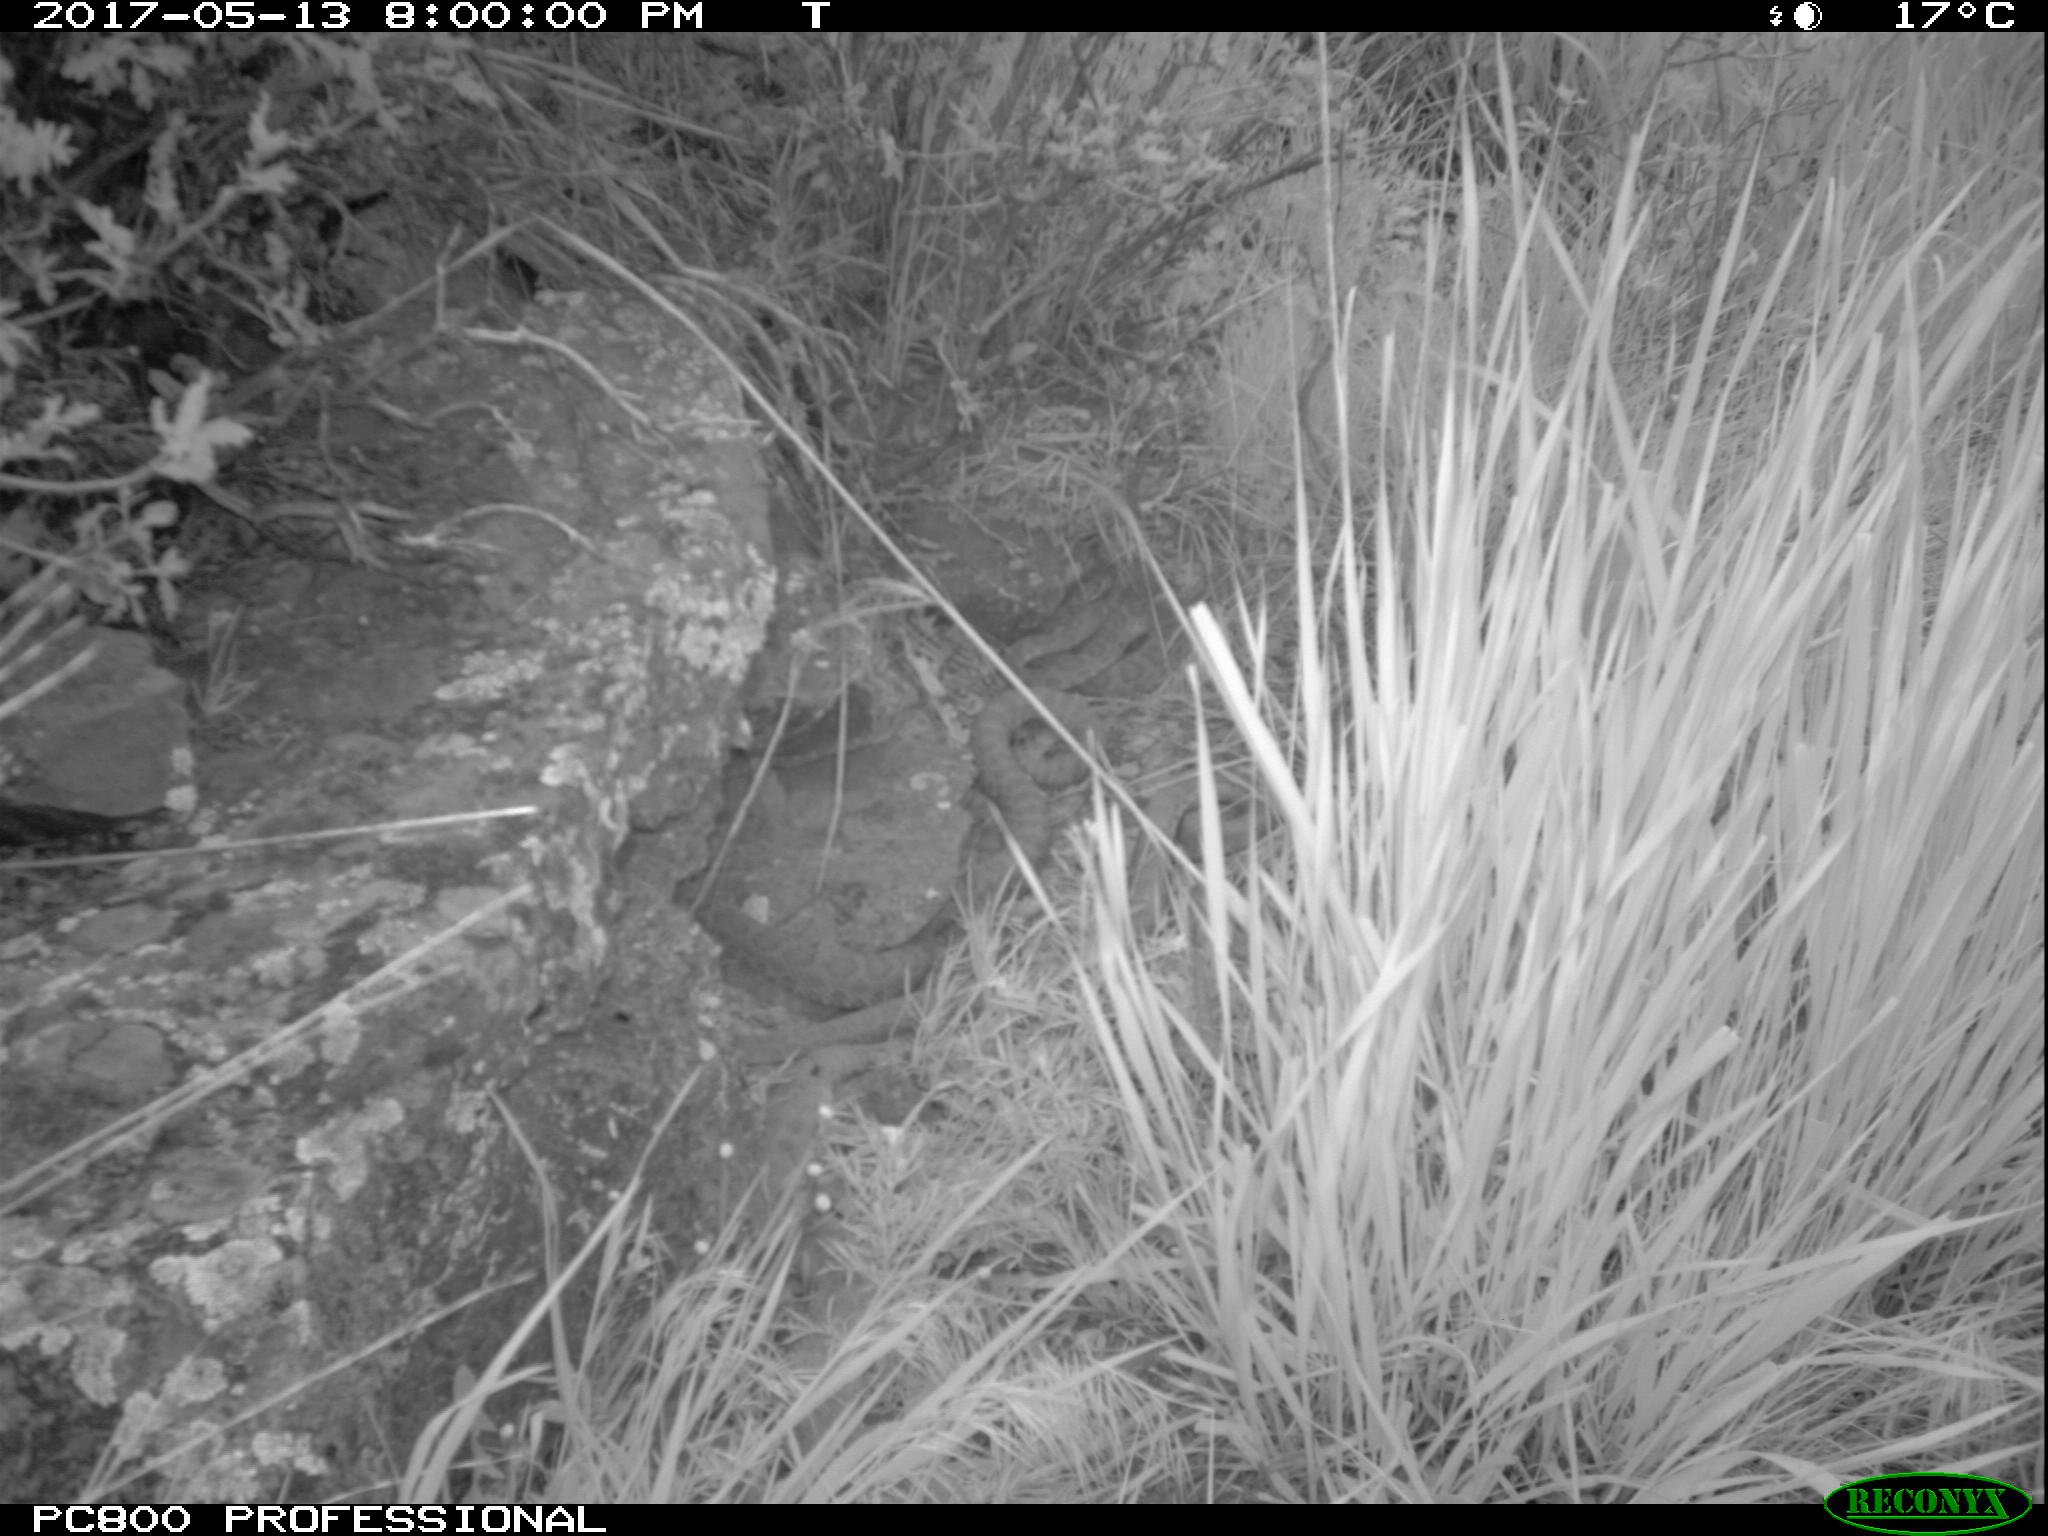snake: (971, 673, 1113, 894), (689, 904, 953, 999), (1018, 607, 1168, 682)
